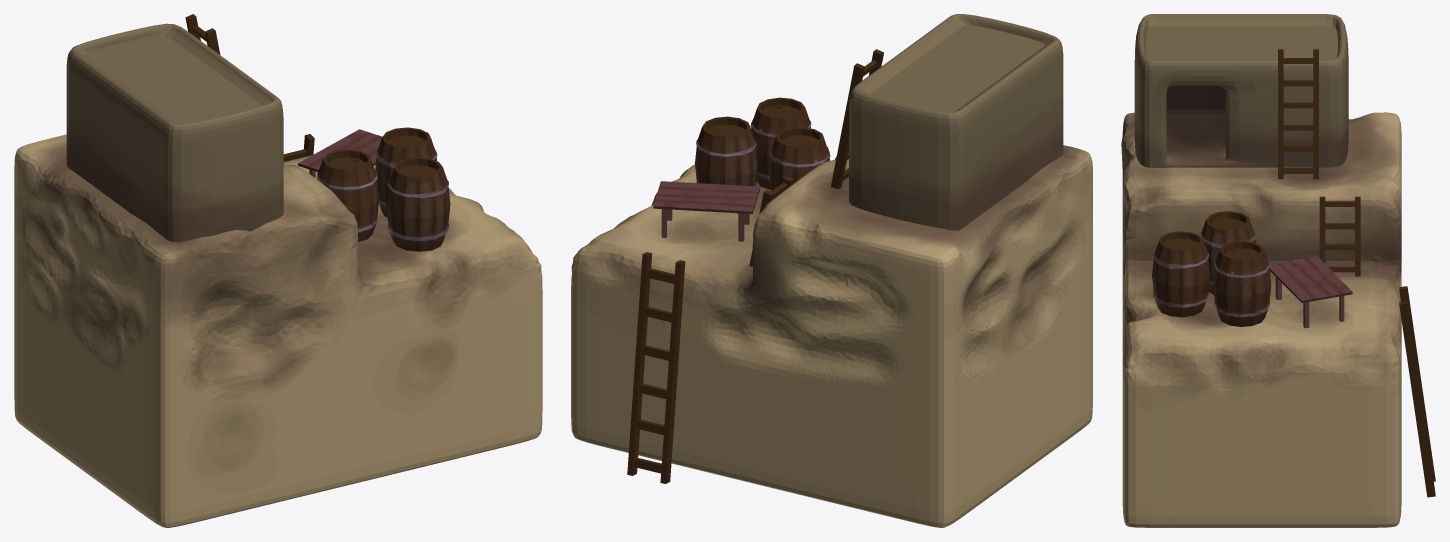
The model's file is Winery.gltf.
3 renders of one model, left to right at view 1: azimuth 30°, elevation 25°; view 2: azimuth 150°, elevation 25°; view 3: azimuth 270°, elevation 25°, orthographic. The views are drawn at different scales.
Parts seen in each view (by area): view 1: Winery; view 2: Winery; view 3: Winery.
Boxes of the visible parts, box(x1,y1,x2,y2) form: Winery: box(14, 14, 542, 527); Winery: box(571, 14, 1092, 527); Winery: box(1121, 14, 1435, 527).
Size of the model in its own units: 3.87 by 3.92 by 2.99.
1 material, 1 textured.
